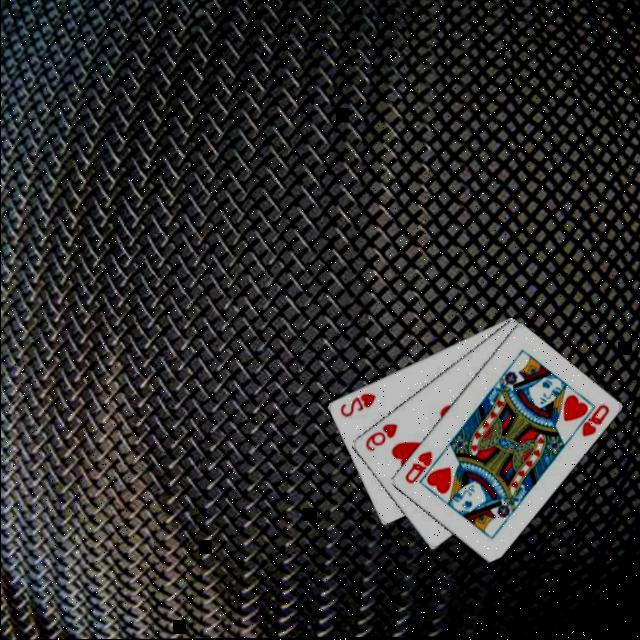2H: (335, 389, 377, 419)
6H: (360, 420, 398, 453)
QH: (567, 401, 610, 439), (400, 447, 433, 485)
